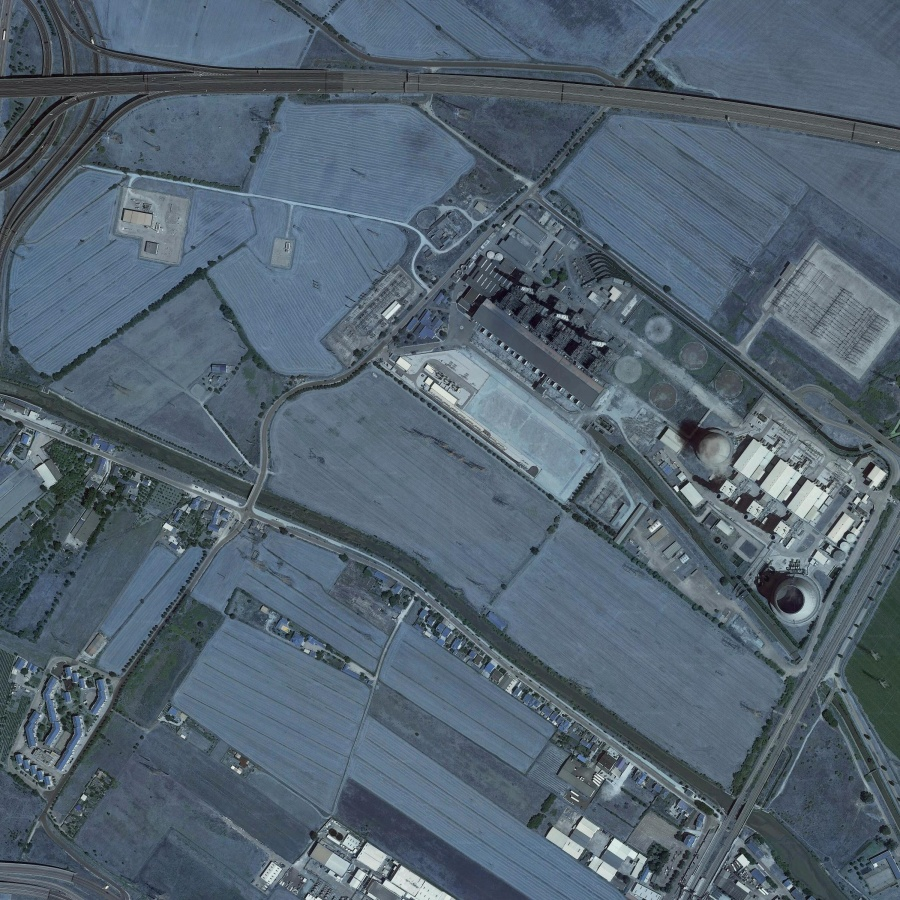PowerPlant: (430, 234, 884, 641)
